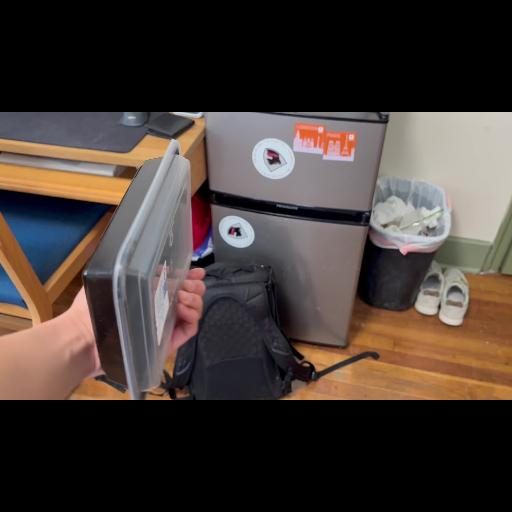rigid_plastic_container: (87, 136, 205, 398)
